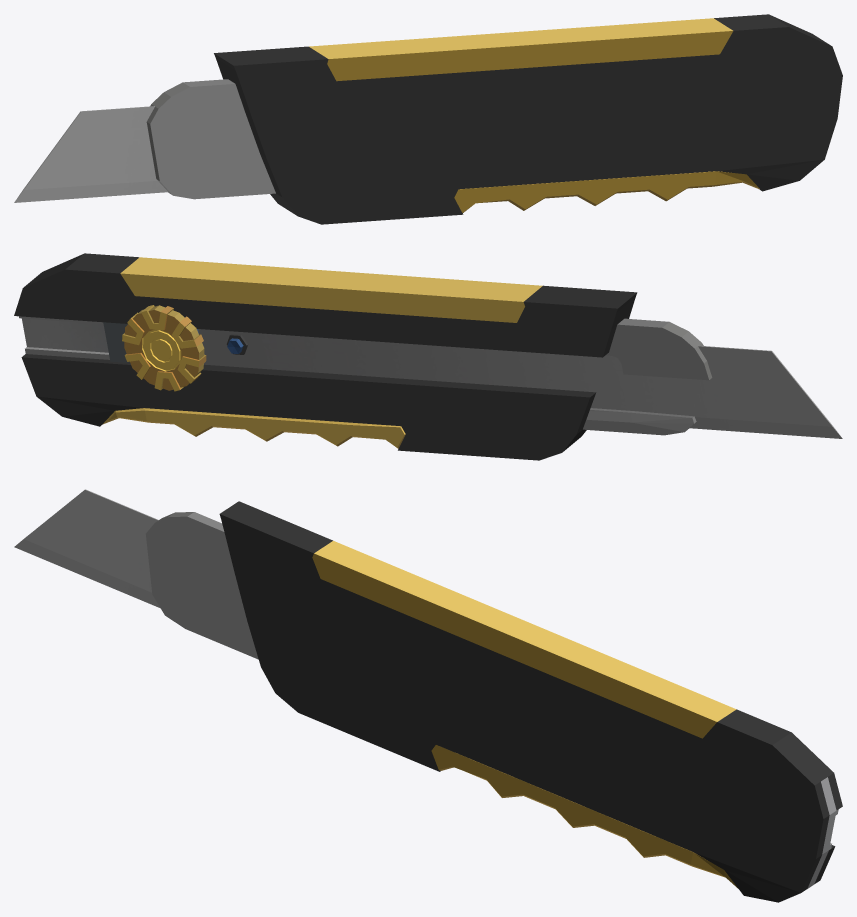
The model's file is Meigongdao.FBX.
3 views of the same model, one above another, from view 1: azimuth 30°, elevation 25°; view 2: azimuth 150°, elevation 25°; view 3: azimuth 330°, elevation 25° (orthographic).
Visible parts, largest first — view 1: Object014; view 2: Object014; view 3: Object014.
Boxes of the visible parts, bbox=[...] form: Object014: bbox=[14, 14, 842, 224]; Object014: bbox=[14, 253, 842, 460]; Object014: bbox=[14, 489, 842, 902].
Bounding box in the file's own units: 15.86 × 4.7 × 1.02.
Materials: 1 (1 with a texture image).
